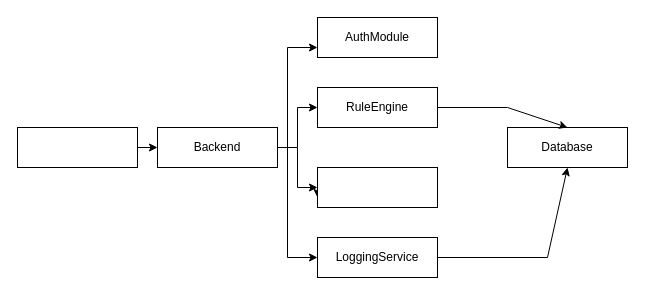
Image size: 645x295. Some labels were removed from this diagram. The shapes that lost their labels are listed below. From the top down, each one's centre as x and y in pixels, then its label:
At point 77,147: "Frontend".
At point 377,187: "Scheduler".
